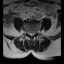CCS_stenosis: (30, 31, 32, 37)
LFS_normal: (34, 30, 36, 36)
LLS_normal: (32, 31, 34, 36)
RFS_normal: (27, 30, 29, 35)
RLS_normal: (29, 30, 31, 36)
